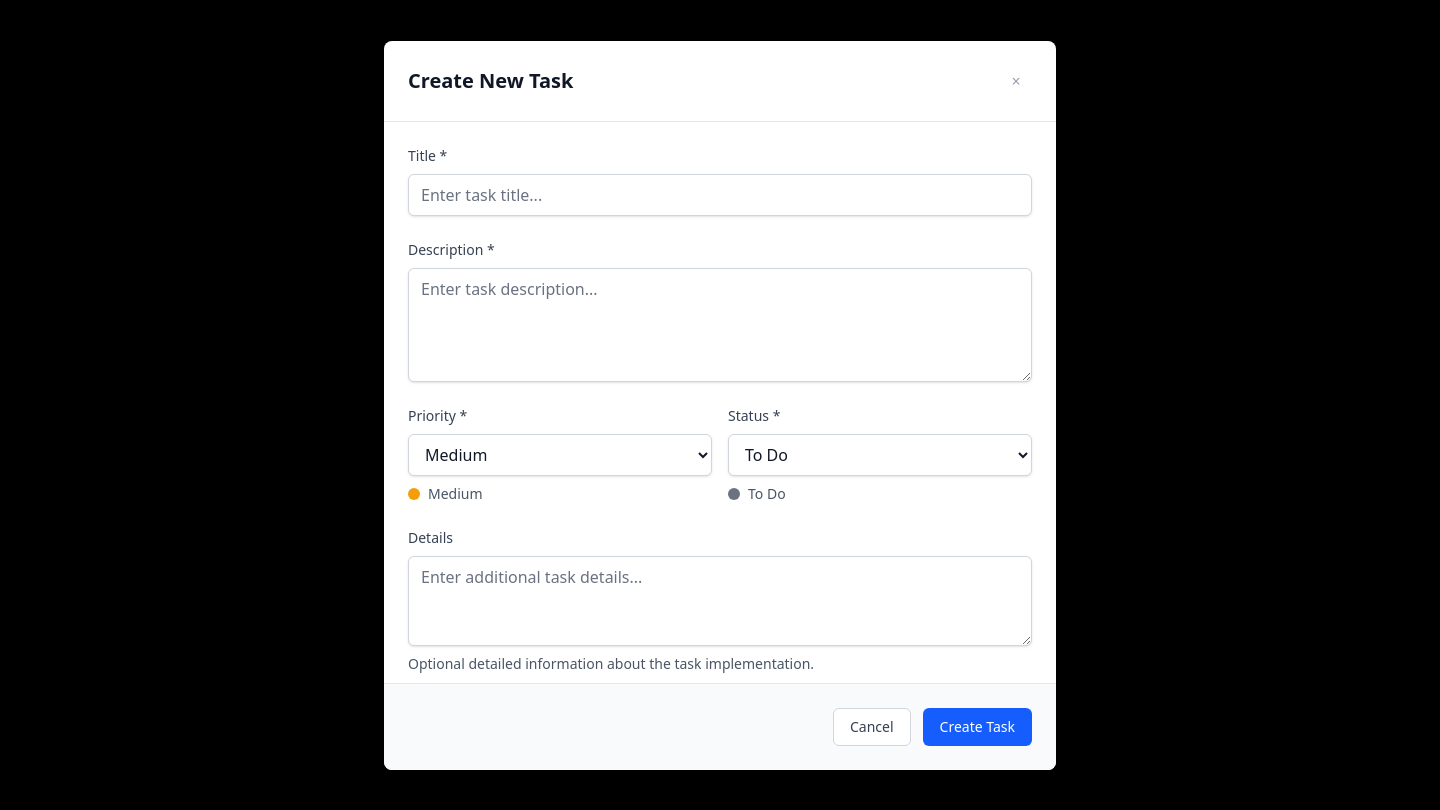
Test: TaskModal › Error Handling › allows dismissing error message
Type "Valid Title" into the field labelled "Title *" at (720, 194), box [408,174,1032,216]
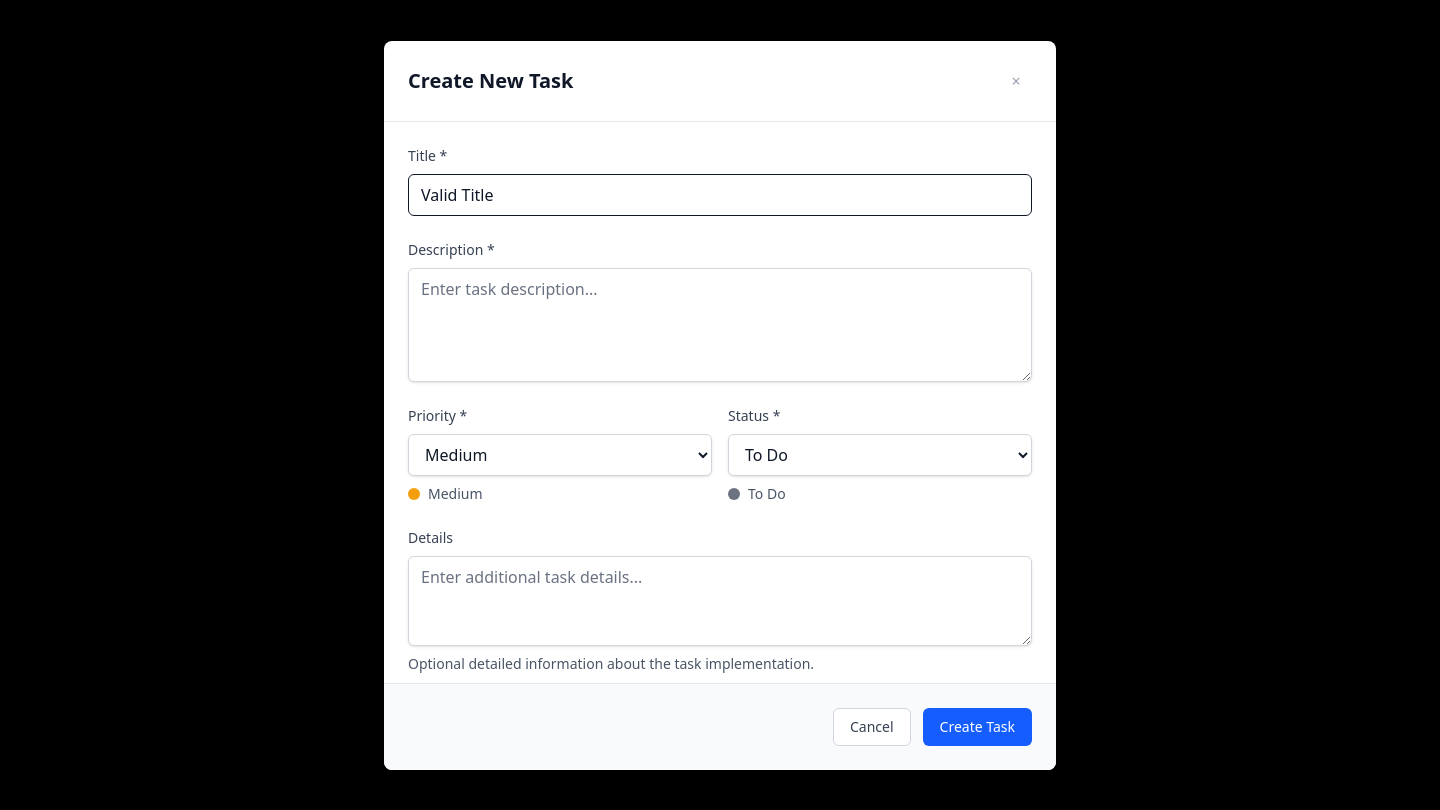
Type "Valid description that is long enough" into the text box labelled "Description *" at (720, 324), box [408,268,1032,382]
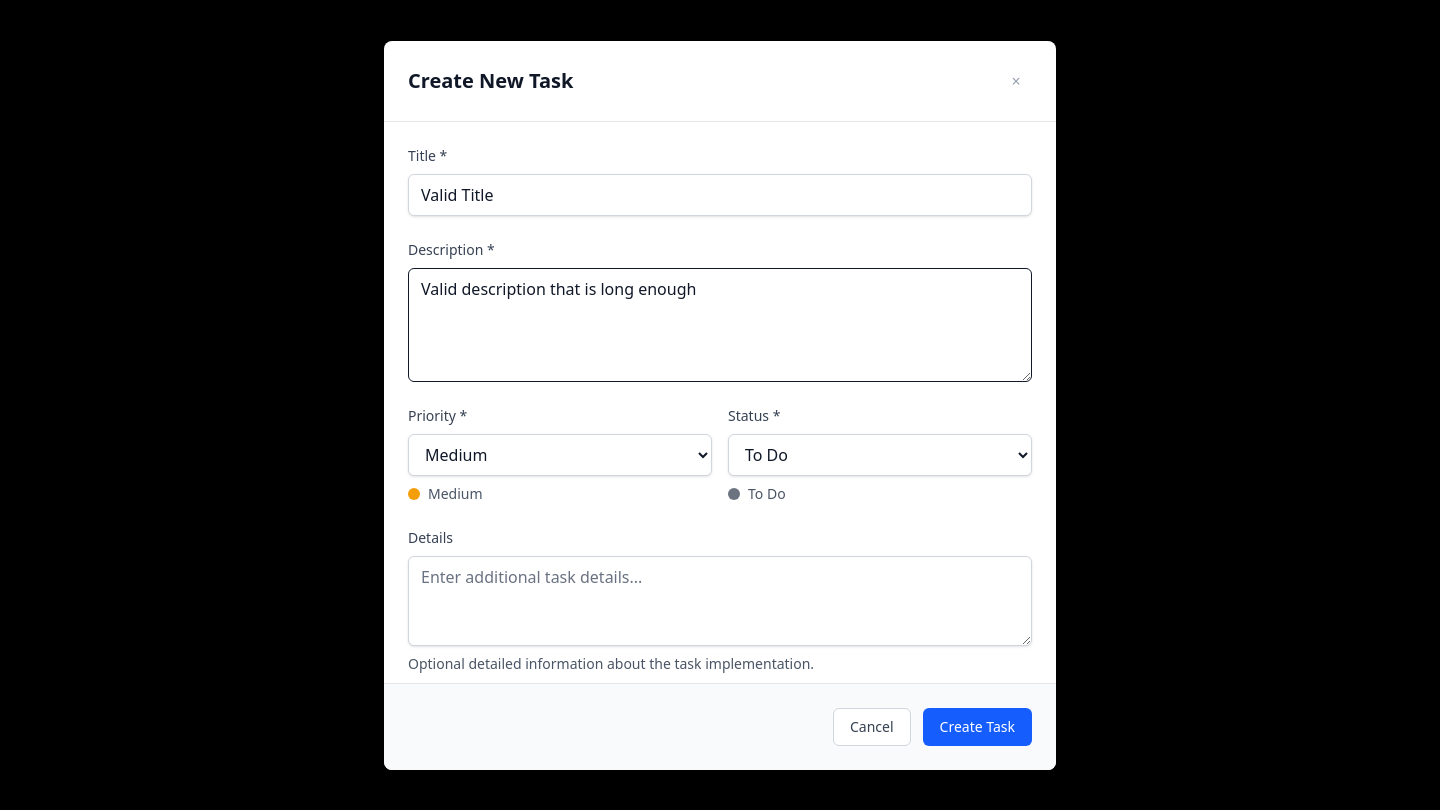
Click the button "Create Task" at (977, 726), box [923,708,1032,746]
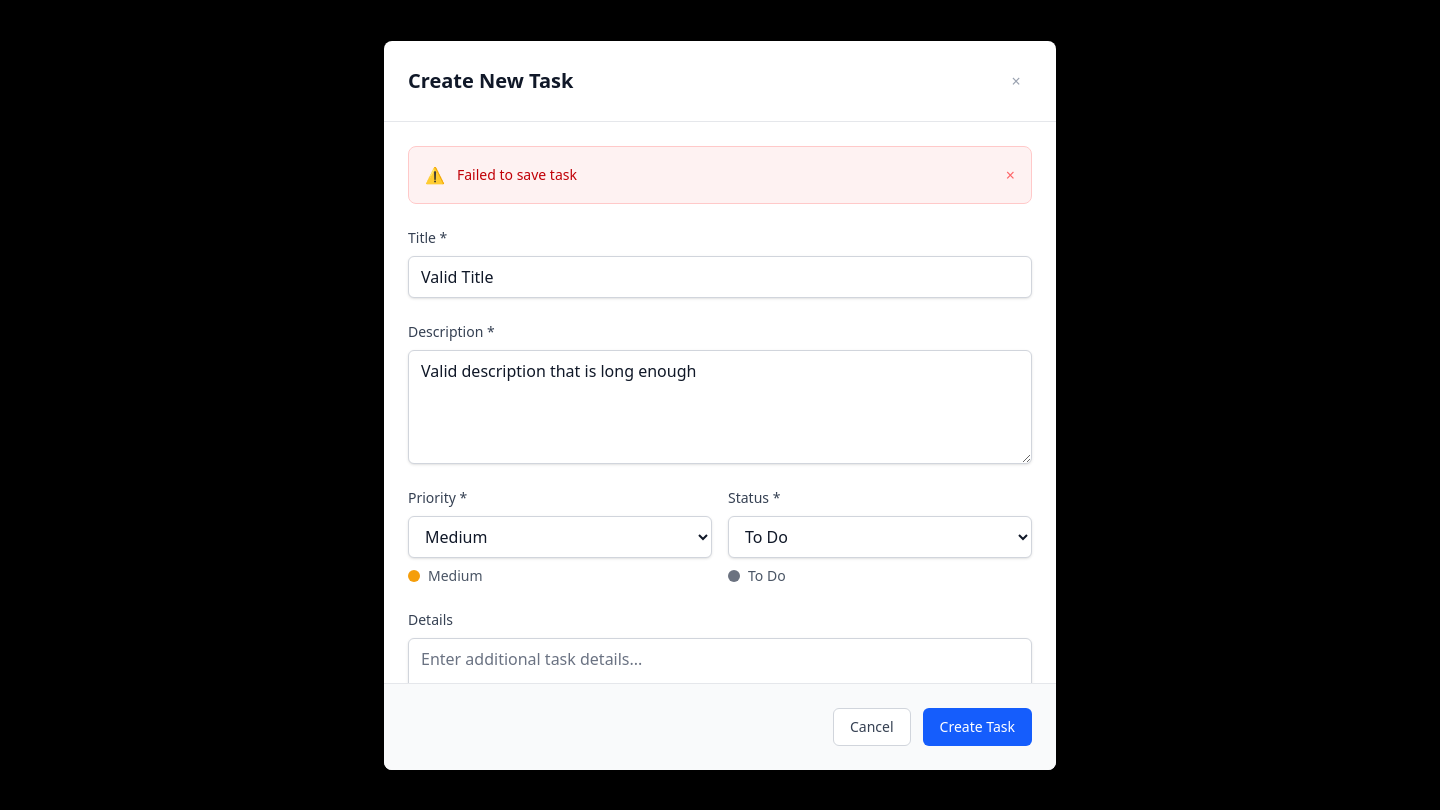
Now the text "Failed to save task" is shown, box [457,164,577,184]
Click the button named "Dismiss error" at (1010, 174), box [1006,162,1015,186]
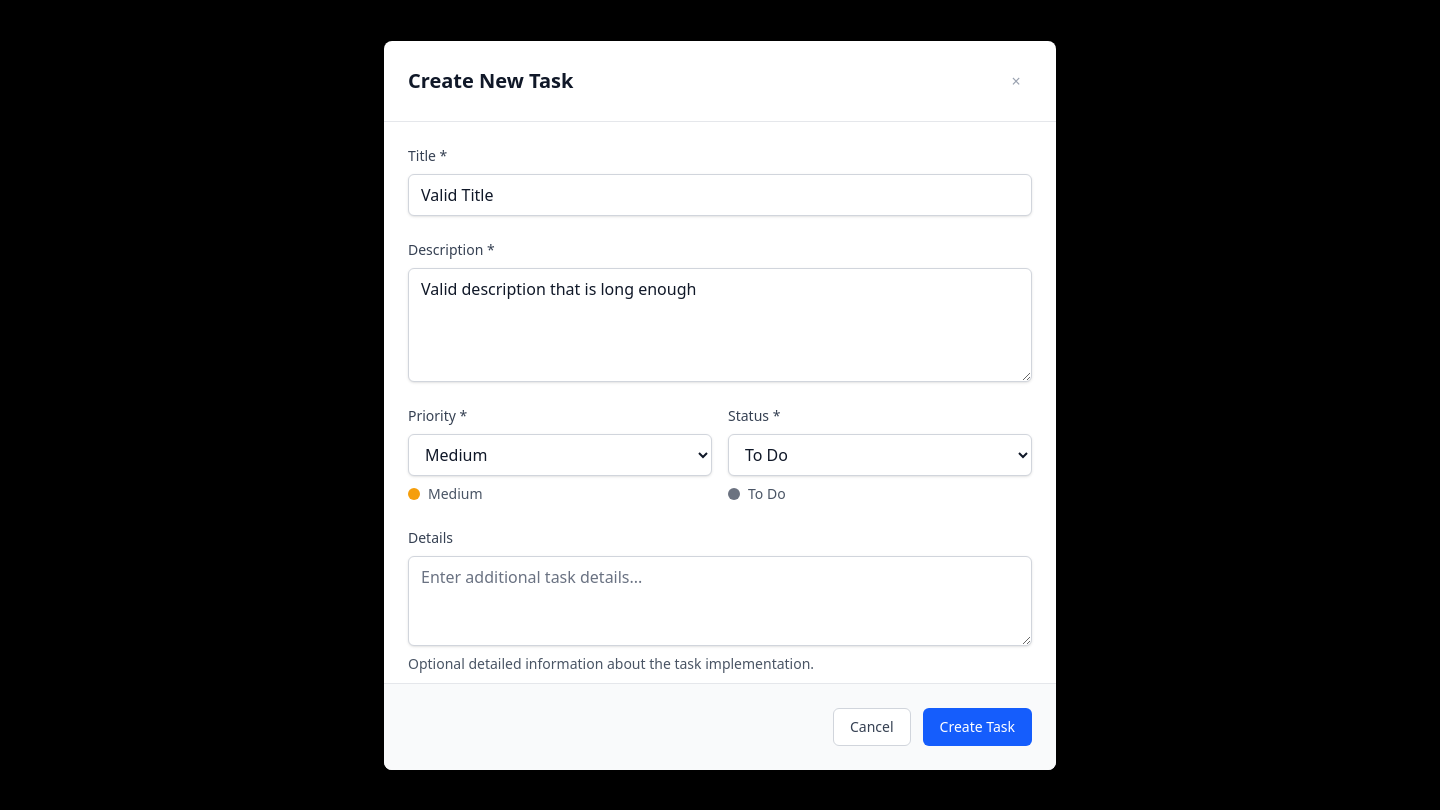
Now the text "Failed to save task" is gone
